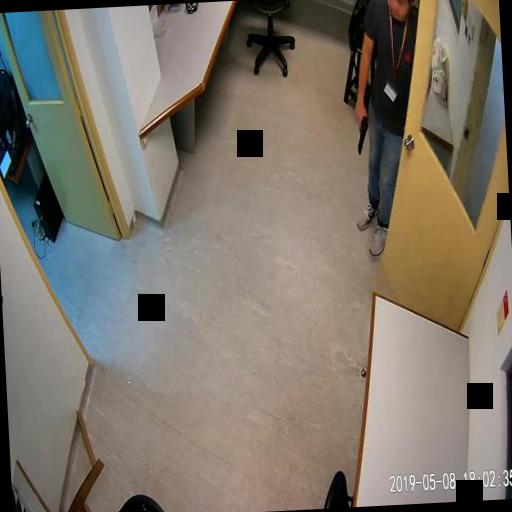Handgun: (354, 109, 368, 154)
